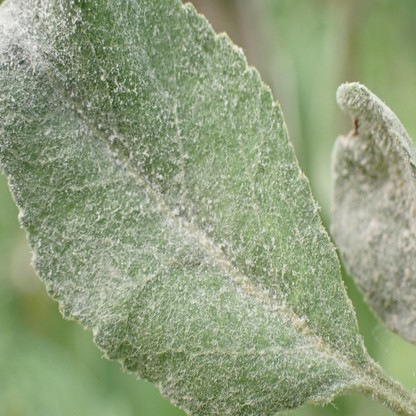powder: (2, 0, 364, 414), (332, 82, 416, 342)
